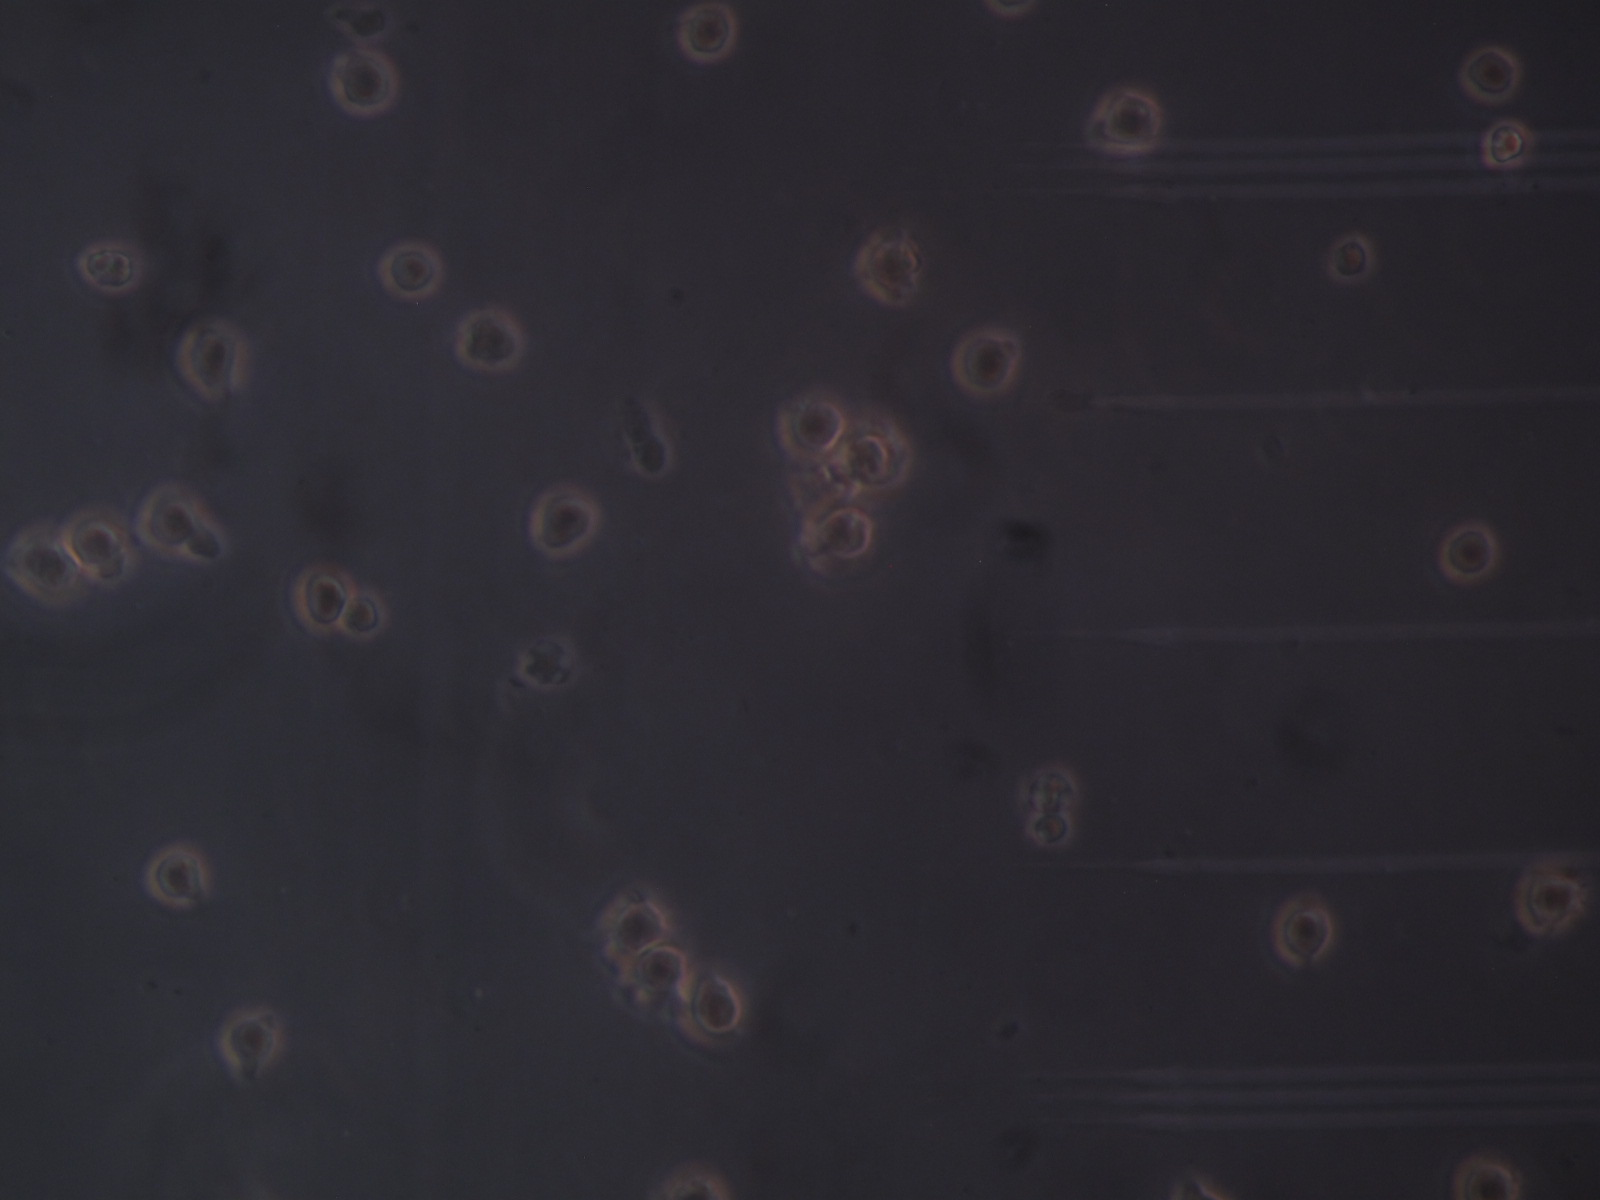hemo: (799, 495, 874, 579), (176, 313, 244, 400), (5, 529, 81, 608), (682, 969, 743, 1053), (529, 484, 597, 558), (289, 560, 355, 635), (596, 887, 665, 959), (847, 413, 907, 493), (1091, 88, 1164, 153), (855, 229, 917, 305), (779, 393, 849, 459), (330, 47, 397, 115), (1517, 863, 1580, 935), (135, 482, 193, 556), (377, 239, 443, 303), (455, 311, 523, 372), (64, 507, 123, 574), (954, 332, 1015, 395), (147, 842, 207, 908), (1276, 900, 1332, 968), (677, 1, 738, 62), (76, 239, 144, 294), (1439, 522, 1497, 584), (621, 947, 687, 998), (1461, 48, 1519, 105), (220, 1010, 277, 1068), (1451, 1158, 1519, 1200), (1482, 120, 1529, 168), (1329, 232, 1374, 281), (340, 591, 384, 638), (183, 523, 231, 563), (1029, 808, 1073, 848)
